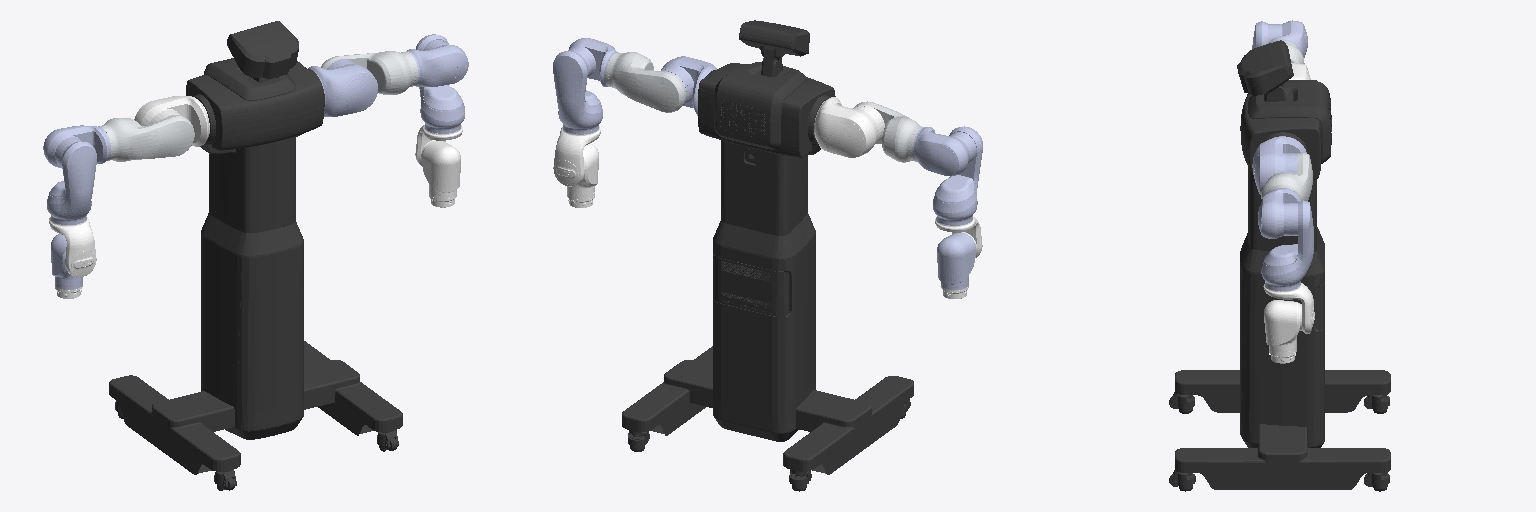
URDF robot description (dscr5_6):
<?xml version="1.0" encoding="utf-8"?>
<!-- This URDF was automatically created by SolidWorks to URDF Exporter! Originally created by [author] ([email redacted]) 
     Commit Version: 1.6.0-1-g15f4949  Build Version: 1.6.7594.29634
     For more information, please see http://wiki.ros.org/sw_urdf_exporter -->
<robot
  name="dscr5_6">
  <link
    name="base_link">
    <inertial>
      <origin
        xyz="2.33471583537977E-06 0.00662907239788253 1.33004670421342"
        rpy="0 0 0" />
      <mass
        value="25.8577669048994" />
      <inertia
        ixx="0.267014137924139"
        ixy="-1.36584455424997E-05"
        ixz="4.24690442718128E-07"
        iyy="0.472244407235779"
        iyz="5.34065558451065E-05"
        izz="0.549554614712028" />
    </inertial>
    <visual>
      <origin
        xyz="0 0 0"
        rpy="0 0 0" />
      <geometry>
        <mesh
          filename="package://dscr5_6/meshes/base_link.STL" />
      </geometry>
      <material
        name="">
        <color
          rgba="0.298039215686275 0.298039215686275 0.298039215686275 1" />
      </material>
    </visual>
    <collision>
      <origin
        xyz="0 0 0"
        rpy="0 0 0" />
      <geometry>
        <mesh
          filename="package://dscr5_6/meshes/base_link.STL" />
      </geometry>
    </collision>
  </link>
  <link
    name="rlink1">
    <inertial>
      <origin
        xyz="-3.48537472660837E-07 -0.0233818482234878 -0.0427896937411072"
        rpy="0 0 0" />
      <mass
        value="4.9503936266377" />
      <inertia
        ixx="0.0280328872192691"
        ixy="-1.09421874885135E-08"
        ixz="8.01870940105599E-08"
        iyy="0.0290016533494644"
        iyz="0.00182600668247838"
        izz="0.0175058159650953" />
    </inertial>
    <visual>
      <origin
        xyz="0 0 0"
        rpy="0 0 0" />
      <geometry>
        <mesh
          filename="package://dscr5_6/meshes/rlink1.STL" />
      </geometry>
      <material
        name="">
        <color
          rgba="1 1 1 1" />
      </material>
    </visual>
    <collision>
      <origin
        xyz="0 0 0"
        rpy="0 0 0" />
      <geometry>
        <mesh
          filename="package://dscr5_6/meshes/rlink1.STL" />
      </geometry>
    </collision>
  </link>
  <joint
    name="rjoint1"
    type="revolute">
    <origin
      xyz="-0.384999999999999 0 1.33"
      rpy="3.14159265358979 1.5707963267949 0" />
    <parent
      link="base_link" />
    <child
      link="rlink1" />
    <axis
      xyz="0 0 1" />
    <limit
      lower="-1.57"
      upper="1.57"
      effort="60"
      velocity="1.047" />
  </joint>
  <link
    name="rlink2">
    <inertial>
      <origin
        xyz="8.53027319225319E-07 0.132185395312596 0.0316164146761528"
        rpy="0 0 0" />
      <mass
        value="3.79795466425453" />
      <inertia
        ixx="0.0345043951838881"
        ixy="6.83453568770256E-07"
        ixz="-3.61629286229262E-08"
        iyy="0.0138915011944337"
        iyz="0.00967376859925764"
        izz="0.0312407355826189" />
    </inertial>
    <visual>
      <origin
        xyz="0 0 0"
        rpy="0 0 0" />
      <geometry>
        <mesh
          filename="package://dscr5_6/meshes/rlink2.STL" />
      </geometry>
      <material
        name="">
        <color
          rgba="0.898039215686275 0.913725490196078 0.925490196078431 1" />
      </material>
    </visual>
    <collision>
      <origin
        xyz="0 0 0"
        rpy="0 0 0" />
      <geometry>
        <mesh
          filename="package://dscr5_6/meshes/rlink2.STL" />
      </geometry>
    </collision>
  </link>
  <joint
    name="rjoint2"
    type="revolute">
    <origin
      xyz="0 0 0"
      rpy="1.5707963267949 0 3.14159265358979" />
    <parent
      link="rlink1" />
    <child
      link="rlink2" />
    <axis
      xyz="0 0 -1" />
    <limit
      lower="-0.916"
      upper="0.916"
      effort="60"
      velocity="1.047" />
  </joint>
  <link
    name="rlink3">
    <inertial>
      <origin
        xyz="-8.01697919161626E-07 -0.0193078273568117 -0.0351761512008308"
        rpy="0 0 0" />
      <mass
        value="2.90590329386609" />
      <inertia
        ixx="0.012506710918385"
        ixy="-3.18829086332697E-08"
        ixz="1.61628680644397E-07"
        iyy="0.0126795925744411"
        iyz="0.000667419670602496"
        izz="0.00682395851939506" />
    </inertial>
    <visual>
      <origin
        xyz="0 0 0"
        rpy="0 0 0" />
      <geometry>
        <mesh
          filename="package://dscr5_6/meshes/rlink3.STL" />
      </geometry>
      <material
        name="">
        <color
          rgba="0.792156862745098 0.819607843137255 0.933333333333333 1" />
      </material>
    </visual>
    <collision>
      <origin
        xyz="0 0 0"
        rpy="0 0 0" />
      <geometry>
        <mesh
          filename="package://dscr5_6/meshes/rlink3.STL" />
      </geometry>
    </collision>
  </link>
  <joint
    name="rjoint3"
    type="revolute">
    <origin
      xyz="0 0.4 0"
      rpy="1.5708 0 3.1416" />
    <parent
      link="rlink2" />
    <child
      link="rlink3" />
    <axis
      xyz="0 0 1" />
    <limit
      lower="-1.57"
      upper="1.57"
      effort="60"
      velocity="1.57" />
  </joint>
  <link
    name="rlink4">
    <inertial>
      <origin
        xyz="-0.144257090671159 -9.85621058857689E-06 -0.0330829693859012"
        rpy="0 0 0" />
      <mass
        value="3.62743871363849" />
      <inertia
        ixx="0.0129758721943285"
        ixy="-2.58330084453535E-06"
        ixz="0.0089132335031844"
        iyy="0.0321838755377905"
        iyz="2.5505256066707E-08"
        izz="0.0283162014026305" />
    </inertial>
    <visual>
      <origin
        xyz="0 0 0"
        rpy="0 0 0" />
      <geometry>
        <mesh
          filename="package://dscr5_6/meshes/rlink4.STL" />
      </geometry>
      <material
        name="">
        <color
          rgba="0.792156862745098 0.819607843137255 0.933333333333333 1" />
      </material>
    </visual>
    <collision>
      <origin
        xyz="0 0 0"
        rpy="0 0 0" />
      <geometry>
        <mesh
          filename="package://dscr5_6/meshes/rlink4.STL" />
      </geometry>
    </collision>
  </link>
  <joint
    name="rjoint4"
    type="revolute">
    <origin
      xyz="0 0 0"
      rpy="-1.5708 0 3.1416" />
    <parent
      link="rlink3" />
    <child
      link="rlink4" />
    <axis
      xyz="0 0 -1" />
    <limit
      lower="-1"
      upper="1"
      effort="60"
      velocity="1.57" />
  </joint>
  <link
    name="rlink5">
    <inertial>
      <origin
        xyz="-5.73325782216028E-06 -0.0539256625097546 -0.0673965611550317"
        rpy="0 0 0" />
      <mass
        value="1.22777453272549" />
      <inertia
        ixx="0.00671987251306287"
        ixy="-1.73026874797395E-07"
        ixz="4.00366572180421E-07"
        iyy="0.00522041312928112"
        iyz="0.0023320996856893"
        izz="0.00406763138318156" />
    </inertial>
    <visual>
      <origin
        xyz="0 0 0"
        rpy="0 0 0" />
      <geometry>
        <mesh
          filename="package://dscr5_6/meshes/rlink5.STL" />
      </geometry>
      <material
        name="">
        <color
          rgba="1 1 1 1" />
      </material>
    </visual>
    <collision>
      <origin
        xyz="0 0 0"
        rpy="0 0 0" />
      <geometry>
        <mesh
          filename="package://dscr5_6/meshes/rlink5.STL" />
      </geometry>
    </collision>
  </link>
  <joint
    name="rjoint5"
    type="revolute">
    <origin
      xyz="-0.4 0 0"
      rpy="1.5708 0 -1.5708" />
    <parent
      link="rlink4" />
    <child
      link="rlink5" />
    <axis
      xyz="0 0 -1" />
    <limit
      lower="-1.57"
      upper="1.57"
      effort="60"
      velocity="1.57" />
  </joint>
  <link
    name="rlink6">
    <inertial>
      <origin
        xyz="3.6069089082158E-07 -0.0302648113567473 0.000654424356794522"
        rpy="0 0 0" />
      <mass
        value="2.18349168254272" />
      <inertia
        ixx="0.0071110582460742"
        ixy="1.28155589668657E-08"
        ixz="2.0793851567459E-08"
        iyy="0.00436647605709646"
        iyz="-0.000217056908270872"
        izz="0.00649083623519741" />
    </inertial>
    <visual>
      <origin
        xyz="0 0 0"
        rpy="0 0 0" />
      <geometry>
        <mesh
          filename="package://dscr5_6/meshes/rlink6.STL" />
      </geometry>
      <material
        name="">
        <color
          rgba="0.792156862745098 0.819607843137255 0.933333333333333 1" />
      </material>
    </visual>
    <collision>
      <origin
        xyz="0 0 0"
        rpy="0 0 0" />
      <geometry>
        <mesh
          filename="package://dscr5_6/meshes/rlink6.STL" />
      </geometry>
    </collision>
  </link>
  <joint
    name="rjoint6"
    type="revolute">
    <origin
      xyz="0 0 0"
      rpy="-1.5708 0 -3.1416" />
    <parent
      link="rlink5" />
    <child
      link="rlink6" />
    <axis
      xyz="0 0 -1" />
    <limit
      lower="-0.96"
      upper="0.96"
      effort="60"
      velocity="1.57" />
  </joint>
  <link
    name="rlink7">
    <inertial>
      <origin
        xyz="-1.6115772992209E-05 -0.000141462244165972 -0.031877389713026"
        rpy="0 0 0" />
      <mass
        value="0.28903198402219" />
      <inertia
        ixx="0.000202802134225507"
        ixy="2.0837505013434E-10"
        ixz="1.07324494570625E-07"
        iyy="0.000203587280513312"
        iyz="1.58994797887414E-07"
        izz="0.000316585846451796" />
    </inertial>
    <visual>
      <origin
        xyz="0 0 0"
        rpy="0 0 0" />
      <geometry>
        <mesh
          filename="package://dscr5_6/meshes/rlink7.STL" />
      </geometry>
      <material
        name="">
        <color
          rgba="1 1 1 1" />
      </material>
    </visual>
    <collision>
      <origin
        xyz="0 0 0"
        rpy="0 0 0" />
      <geometry>
        <mesh
          filename="package://dscr5_6/meshes/rlink7.STL" />
      </geometry>
    </collision>
  </link>
  <joint
    name="rjoint7"
    type="continuous">
    <origin
      xyz="0 -0.1805 0"
      rpy="-1.5708 0 3.1416" />
    <parent
      link="rlink6" />
    <child
      link="rlink7" />
    <axis
      xyz="0 0 -1" />
    <limit
      lower="-1.57"
      upper="1.57"
      effort="60"
      velocity="1.57" />
  </joint>
  <link
    name="llink1">
    <inertial>
      <origin
        xyz="-3.48534555660862E-07 -0.0233818482203476 -0.0427896937411069"
        rpy="0 0 0" />
      <mass
        value="4.95039362663772" />
      <inertia
        ixx="0.0280328872192692"
        ixy="-1.09421874361315E-08"
        ixz="8.01870939683973E-08"
        iyy="0.0290016533494645"
        iyz="0.00182600668247842"
        izz="0.0175058159650953" />
    </inertial>
    <visual>
      <origin
        xyz="0 0 0"
        rpy="0 0 0" />
      <geometry>
        <mesh
          filename="package://dscr5_6/meshes/llink1.STL" />
      </geometry>
      <material
        name="">
        <color
          rgba="0.792156862745098 0.819607843137255 0.933333333333333 1" />
      </material>
    </visual>
    <collision>
      <origin
        xyz="0 0 0"
        rpy="0 0 0" />
      <geometry>
        <mesh
          filename="package://dscr5_6/meshes/llink1.STL" />
      </geometry>
    </collision>
  </link>
  <joint
    name="ljoint1"
    type="revolute">
    <origin
      xyz="0.385 0 1.33000000000292"
      rpy="0 1.5707963267949 0" />
    <parent
      link="base_link" />
    <child
      link="llink1" />
    <axis
      xyz="0 0 -1" />
    <limit
      lower="-1.57"
      upper="1.57"
      effort="60"
      velocity="1.047" />
  </joint>
  <link
    name="llink2">
    <inertial>
      <origin
        xyz="8.57088727768129E-07 -0.13218539479818 -0.0316164152507733"
        rpy="0 0 0" />
      <mass
        value="3.79795439943558" />
      <inertia
        ixx="0.0345043950633951"
        ixy="-6.83154507808564E-07"
        ixz="3.59263239477534E-08"
        iyy="0.0138915001045365"
        iyz="0.00967376854022875"
        izz="0.0312407342738061" />
    </inertial>
    <visual>
      <origin
        xyz="0 0 0"
        rpy="0 0 0" />
      <geometry>
        <mesh
          filename="package://dscr5_6/meshes/llink2.STL" />
      </geometry>
      <material
        name="">
        <color
          rgba="0.898039215686275 0.913725490196078 0.925490196078431 1" />
      </material>
    </visual>
    <collision>
      <origin
        xyz="0 0 0"
        rpy="0 0 0" />
      <geometry>
        <mesh
          filename="package://dscr5_6/meshes/llink2.STL" />
      </geometry>
    </collision>
  </link>
  <joint
    name="ljoint2"
    type="revolute">
    <origin
      xyz="0 0 0"
      rpy="-1.5707963267949 0 -3.14159265358978" />
    <parent
      link="llink1" />
    <child
      link="llink2" />
    <axis
      xyz="0 0 1" />
    <limit
      lower="-0.916"
      upper="0.916"
      effort="60"
      velocity="1.047" />
  </joint>
  <link
    name="llink3">
    <inertial>
      <origin
        xyz="-8.01697918939581E-07 -0.0193078273536719 -0.035176151200831"
        rpy="0 0 0" />
      <mass
        value="2.90590329386612" />
      <inertia
        ixx="0.0125067109183852"
        ixy="-3.18829086345831E-08"
        ixz="1.61628680720986E-07"
        iyy="0.0126795925744412"
        iyz="0.000667419670602472"
        izz="0.00682395851939513" />
    </inertial>
    <visual>
      <origin
        xyz="0 0 0"
        rpy="0 0 0" />
      <geometry>
        <mesh
          filename="package://dscr5_6/meshes/llink3.STL" />
      </geometry>
      <material
        name="">
        <color
          rgba="0.792156862745098 0.819607843137255 0.933333333333333 1" />
      </material>
    </visual>
    <collision>
      <origin
        xyz="0 0 0"
        rpy="0 0 0" />
      <geometry>
        <mesh
          filename="package://dscr5_6/meshes/llink3.STL" />
      </geometry>
    </collision>
  </link>
  <joint
    name="ljoint3"
    type="revolute">
    <origin
      xyz="0 -0.400000000000002 0"
      rpy="-1.5707963267949 0 3.14159265358979" />
    <parent
      link="llink2" />
    <child
      link="llink3" />
    <axis
      xyz="0 0 -1" />
    <limit
      lower="-1.57"
      upper="1.57"
      effort="60"
      velocity="1.57" />
  </joint>
  <link
    name="llink4">
    <inertial>
      <origin
        xyz="-0.144257090671159 -9.85621058846586E-06 -0.0330829693890409"
        rpy="0 0 0" />
      <mass
        value="3.6274387136385" />
      <inertia
        ixx="0.0129758721958824"
        ixy="-2.5832991490571E-06"
        ixz="0.0089132335030002"
        iyy="0.0321838755383158"
        iyz="2.55050844184399E-08"
        izz="0.028316201404925" />
    </inertial>
    <visual>
      <origin
        xyz="0 0 0"
        rpy="0 0 0" />
      <geometry>
        <mesh
          filename="package://dscr5_6/meshes/llink4.STL" />
      </geometry>
      <material
        name="">
        <color
          rgba="0.792156862745098 0.819607843137255 0.933333333333333 1" />
      </material>
    </visual>
    <collision>
      <origin
        xyz="0 0 0"
        rpy="0 0 0" />
      <geometry>
        <mesh
          filename="package://dscr5_6/meshes/llink4.STL" />
      </geometry>
    </collision>
  </link>
  <joint
    name="ljoint4"
    type="revolute">
    <origin
      xyz="0 0 0"
      rpy="-1.5707963267949 0 3.14159265358979" />
    <parent
      link="llink3" />
    <child
      link="llink4" />
    <axis
      xyz="0 0 1" />
    <limit
      lower="-1"
      upper="1"
      effort="60"
      velocity="1.57" />
  </joint>
  <link
    name="llink5">
    <inertial>
      <origin
        xyz="5.73532288894452E-06 0.0539158105053979 -0.0673965526908485"
        rpy="0 0 0" />
      <mass
        value="1.22777421461757" />
      <inertia
        ixx="0.00671987162846365"
        ixy="-1.73133868954827E-07"
        ixz="-4.00335180443076E-07"
        iyy="0.00522041225072359"
        iyz="-0.00233209954708952"
        izz="0.00406763025471862" />
    </inertial>
    <visual>
      <origin
        xyz="0 0 0"
        rpy="0 0 0" />
      <geometry>
        <mesh
          filename="package://dscr5_6/meshes/llink5.STL" />
      </geometry>
      <material
        name="">
        <color
          rgba="1 1 1 1" />
      </material>
    </visual>
    <collision>
      <origin
        xyz="0 0 0"
        rpy="0 0 0" />
      <geometry>
        <mesh
          filename="package://dscr5_6/meshes/llink5.STL" />
      </geometry>
    </collision>
  </link>
  <joint
    name="ljoint5"
    type="revolute">
    <origin
      xyz="-0.400000000000081 0 0"
      rpy="-1.5707963267949 0 1.57079632679491" />
    <parent
      link="llink4" />
    <child
      link="llink5" />
    <axis
      xyz="0 0 1" />
    <limit
      lower="-1.57"
      upper="1.57"
      effort="60"
      velocity="1.57" />
  </joint>
  <link
    name="llink6">
    <inertial>
      <origin
        xyz="-3.60690891154647E-07 -0.0302648113567476 -0.000644568673573311"
        rpy="0 0 0" />
      <mass
        value="2.1834916825427" />
      <inertia
        ixx="0.00711105824607414"
        ixy="-1.28155589872999E-08"
        ixz="2.07938515571978E-08"
        iyy="0.00436647605709643"
        iyz="0.00021705690827092"
        izz="0.00649083623519734" />
    </inertial>
    <visual>
      <origin
        xyz="0 0 0"
        rpy="0 0 0" />
      <geometry>
        <mesh
          filename="package://dscr5_6/meshes/llink6.STL" />
      </geometry>
      <material
        name="">
        <color
          rgba="1 1 1 1" />
      </material>
    </visual>
    <collision>
      <origin
        xyz="0 0 0"
        rpy="0 0 0" />
      <geometry>
        <mesh
          filename="package://dscr5_6/meshes/llink6.STL" />
      </geometry>
    </collision>
  </link>
  <joint
    name="ljoint6"
    type="revolute">
    <origin
      xyz="0 0 0"
      rpy="-1.5708 0 -3.1416" />
    <parent
      link="llink5" />
    <child
      link="llink6" />
    <axis
      xyz="0 0 1" />
    <limit
      lower="-0.96"
      upper="0.96"
      effort="60"
      velocity="1.57" />
  </joint>
  <link
    name="llink7">
    <inertial>
      <origin
        xyz="1.61157729924311E-05 0.000131606557804023 -0.0318773897130259"
        rpy="0 0 0" />
      <mass
        value="0.289031984022191" />
      <inertia
        ixx="0.000202802134225507"
        ixy="2.08375050252457E-10"
        ixz="-1.07324494570797E-07"
        iyy="0.000203587280513312"
        iyz="-1.58994797887464E-07"
        izz="0.000316585846451796" />
    </inertial>
    <visual>
      <origin
        xyz="0 0 0"
        rpy="0 0 0" />
      <geometry>
        <mesh
          filename="package://dscr5_6/meshes/llink7.STL" />
      </geometry>
      <material
        name="">
        <color
          rgba="1 1 1 1" />
      </material>
    </visual>
    <collision>
      <origin
        xyz="0 0 0"
        rpy="0 0 0" />
      <geometry>
        <mesh
          filename="package://dscr5_6/meshes/llink7.STL" />
      </geometry>
    </collision>
  </link>
  <joint
    name="ljoint7"
    type="revolute">
    <origin
      xyz="0 -0.1805 0"
      rpy="-1.5708 0 -3.1416" />
    <parent
      link="llink6" />
    <child
      link="llink7" />
    <axis
      xyz="0 0 -1" />
    <limit
      lower="-1.57"
      upper="1.57"
      effort="60"
      velocity="1.57" />
  </joint>
</robot>

--- What the picture shows (computed from the rendered views, not written in the file) ---
The picture shows the robot from 3 angles, left to right: view 1: azimuth 30°, elevation 25°; view 2: azimuth 150°, elevation 25°; view 3: azimuth 270°, elevation 25°; orthographic projection.
Robot: dscr5_6 — 15 links, 14 joints (13 revolute, 1 continuous); root link base_link; default pose: every joint at zero.
Visible links, largest first — view 1: base_link, rlink2, rlink4, llink1, llink2, llink4, llink3, llink6, rlink1, rlink3, rlink5, rlink6 (+1 smaller); view 2: base_link, rlink1, llink2, llink4, rlink4, rlink3, rlink6, rlink2, llink5, llink1, llink3, llink6 (+1 smaller); view 3: base_link, llink4, llink3, llink6, llink1, llink2, llink5, rlink3.
Link boxes in pixels (box(x1,y1,x2,y2)): base_link: box(109, 21, 402, 490); rlink2: box(100, 115, 194, 161); rlink4: box(47, 142, 96, 224); llink1: box(308, 59, 377, 116); llink2: box(321, 51, 418, 94); llink4: box(416, 34, 464, 133); llink3: box(407, 40, 468, 86); llink6: box(422, 141, 460, 198); rlink1: box(134, 96, 209, 146); rlink3: box(43, 125, 110, 167); rlink5: box(49, 217, 96, 276); rlink6: box(51, 234, 82, 289); base_link: box(622, 20, 913, 491); rlink1: box(814, 97, 884, 157); llink2: box(606, 52, 686, 112); llink4: box(553, 51, 602, 134); rlink4: box(933, 126, 982, 225); rlink3: box(912, 127, 976, 175); rlink6: box(937, 232, 975, 289); rlink2: box(855, 101, 922, 162); llink5: box(553, 126, 600, 186); llink1: box(661, 56, 716, 115); llink3: box(568, 38, 616, 86); llink6: box(567, 143, 598, 198); base_link: box(1169, 40, 1390, 491); llink4: box(1261, 200, 1313, 290); llink3: box(1258, 188, 1300, 238); llink6: box(1264, 300, 1300, 354); llink1: box(1252, 136, 1306, 194); llink2: box(1261, 153, 1312, 200); llink5: box(1263, 283, 1314, 333); rlink3: box(1268, 20, 1307, 57).
Size in the robot's own frame: 1.73 by 0.8215 by 1.62 metres.
15 mesh visuals loaded from 15 distinct referenced files (15 binary STL).